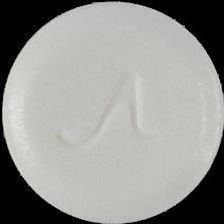66336-085: (0, 0, 224, 224)
